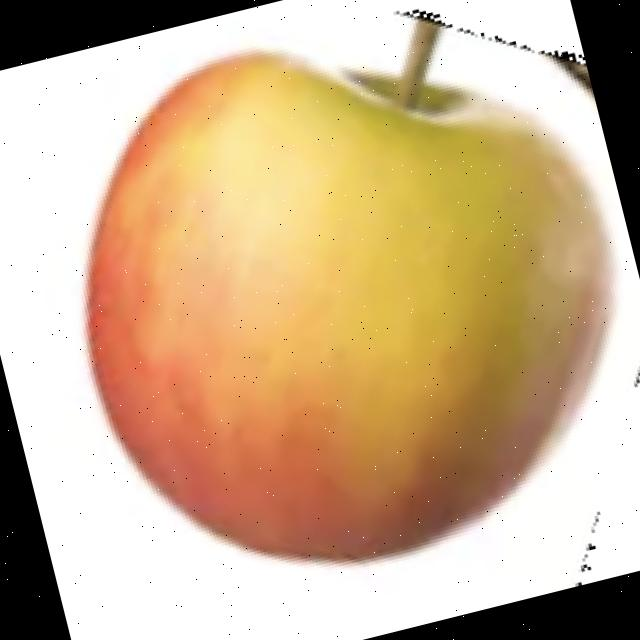apple: (76, 5, 623, 571)
